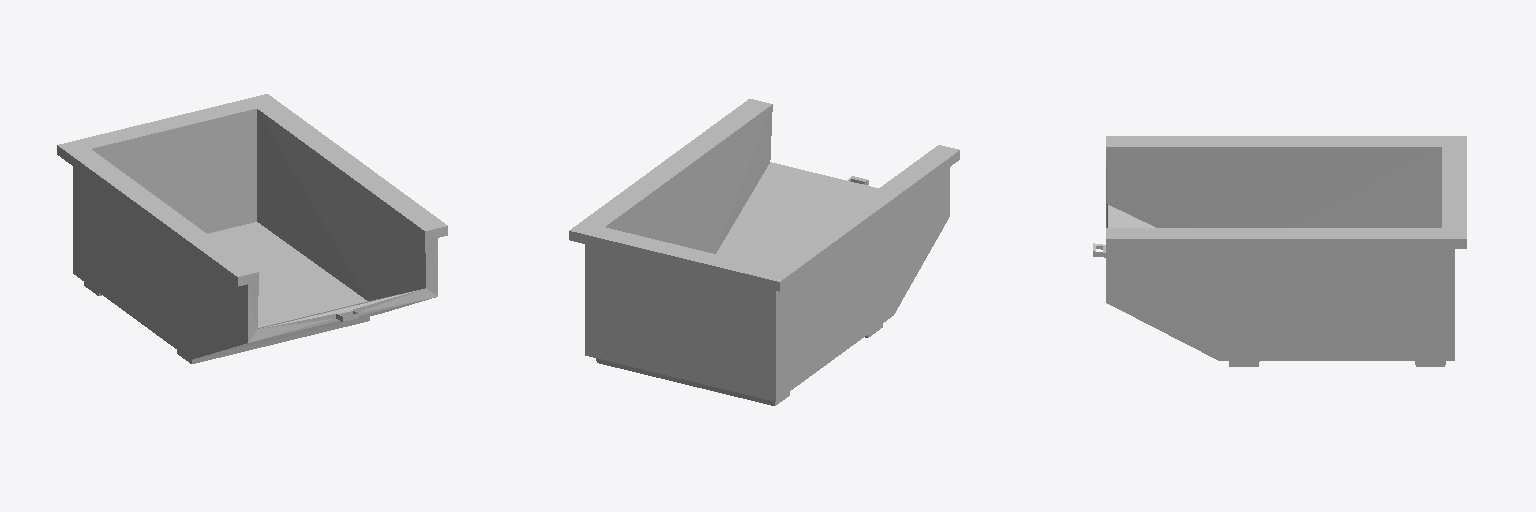
The model's file is dumbster.obj.
3 views of the same model, side by side, from view 1: azimuth 30°, elevation 25°; view 2: azimuth 150°, elevation 25°; view 3: azimuth 270°, elevation 25° (orthographic).
Parts seen in each view (by area): view 1: Group; view 2: Group; view 3: Group.
Boxes of the visible parts, x1,y1,x2,y2 form: Group: [57, 94, 447, 363]; Group: [569, 99, 959, 405]; Group: [1093, 136, 1466, 366].
Bounding box in the file's own units: 77.47 × 47.89 × 119.